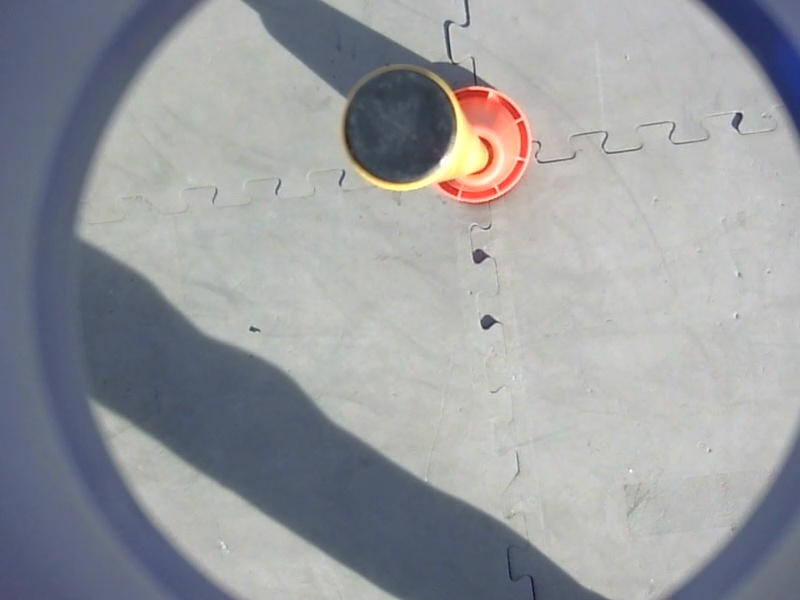tip: (333, 59, 468, 196)
